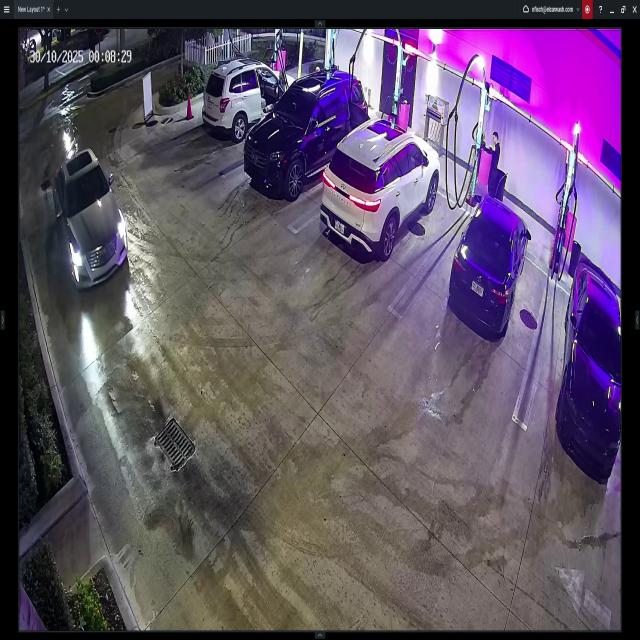Car: (322, 113, 439, 257), (238, 66, 368, 195), (559, 256, 622, 481), (445, 190, 530, 339), (50, 142, 128, 286), (201, 52, 298, 139)
